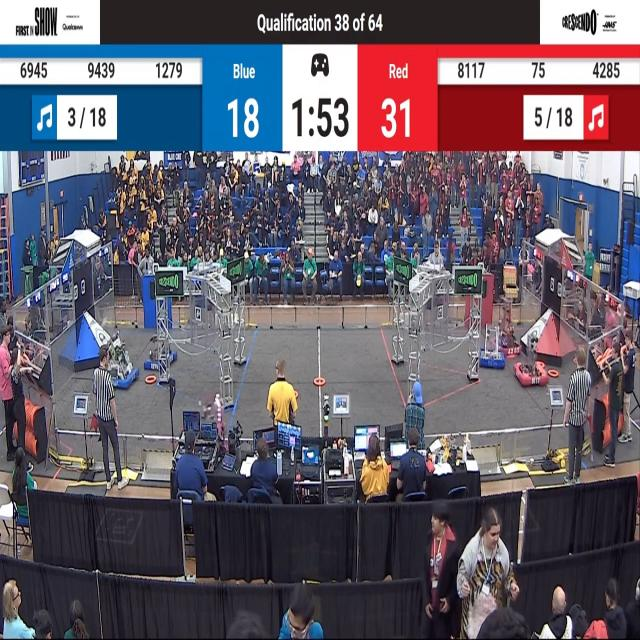Robot: (512, 323, 552, 391), (101, 328, 138, 392), (142, 324, 177, 377), (490, 294, 520, 353), (478, 314, 504, 374), (201, 386, 230, 434)
